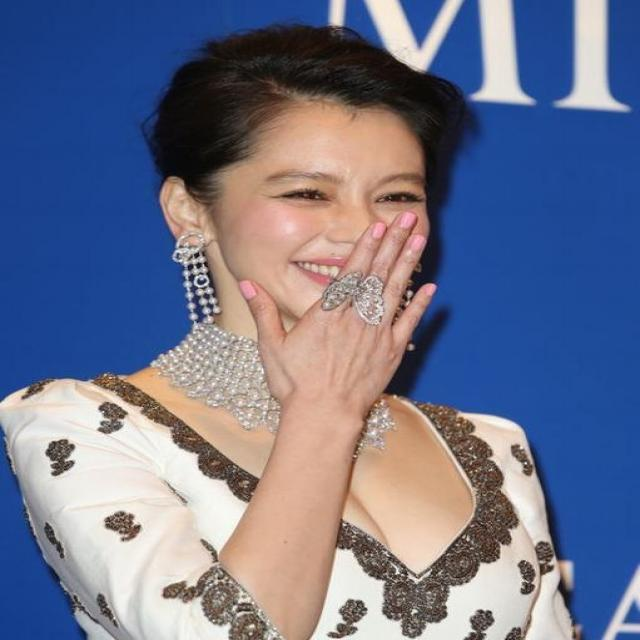nomask: (227, 105, 427, 334)
